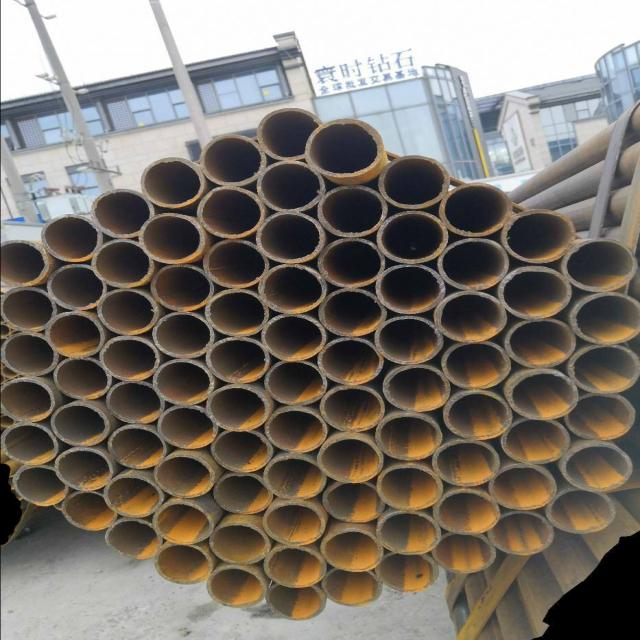pipe: (303, 115, 386, 178), (431, 288, 509, 344), (193, 128, 265, 186), (433, 236, 508, 291), (437, 181, 514, 234), (500, 210, 574, 263), (249, 106, 324, 158), (560, 240, 636, 291), (497, 266, 569, 319), (378, 155, 451, 207), (503, 369, 580, 418), (137, 155, 205, 209), (560, 442, 633, 492), (568, 291, 638, 343), (443, 388, 510, 442), (316, 185, 384, 237), (139, 212, 204, 266), (505, 316, 576, 365), (374, 264, 442, 315), (570, 343, 639, 393), (86, 187, 156, 236), (150, 309, 218, 359), (257, 161, 325, 211), (318, 237, 386, 287), (39, 211, 103, 263), (440, 342, 512, 388), (258, 262, 324, 312), (260, 312, 326, 362), (92, 288, 160, 336), (318, 434, 386, 482), (89, 236, 154, 286), (255, 214, 327, 259), (317, 335, 383, 384), (46, 400, 113, 448), (150, 451, 217, 499), (196, 187, 261, 236), (318, 288, 384, 336), (544, 489, 614, 534), (372, 413, 440, 459), (486, 512, 557, 556), (205, 336, 270, 384), (502, 418, 568, 465), (567, 393, 633, 440), (151, 357, 218, 403), (261, 360, 328, 406), (201, 236, 263, 285), (319, 384, 385, 430), (52, 354, 115, 402), (258, 499, 325, 544), (374, 317, 441, 362), (49, 446, 114, 492), (205, 384, 270, 430), (106, 421, 167, 470), (384, 364, 450, 409), (370, 511, 439, 554), (151, 497, 214, 544), (433, 442, 500, 486), (204, 562, 268, 608), (97, 332, 159, 379), (377, 547, 439, 594), (260, 408, 326, 452), (376, 464, 442, 508), (433, 488, 499, 532), (259, 453, 322, 499), (102, 380, 166, 425), (150, 263, 214, 308), (152, 404, 216, 449), (204, 291, 268, 336), (0, 330, 58, 379), (319, 480, 385, 523), (491, 464, 554, 509), (433, 530, 497, 574), (151, 542, 214, 586), (317, 530, 383, 572), (205, 430, 270, 472), (205, 523, 270, 565), (50, 261, 106, 309), (258, 546, 322, 588), (262, 581, 327, 622), (0, 422, 59, 467), (0, 287, 56, 334), (46, 311, 103, 357), (101, 474, 162, 516), (101, 519, 162, 561), (207, 474, 268, 514), (0, 377, 54, 422), (59, 490, 118, 530), (324, 567, 380, 608), (0, 240, 52, 284), (12, 465, 66, 505)
